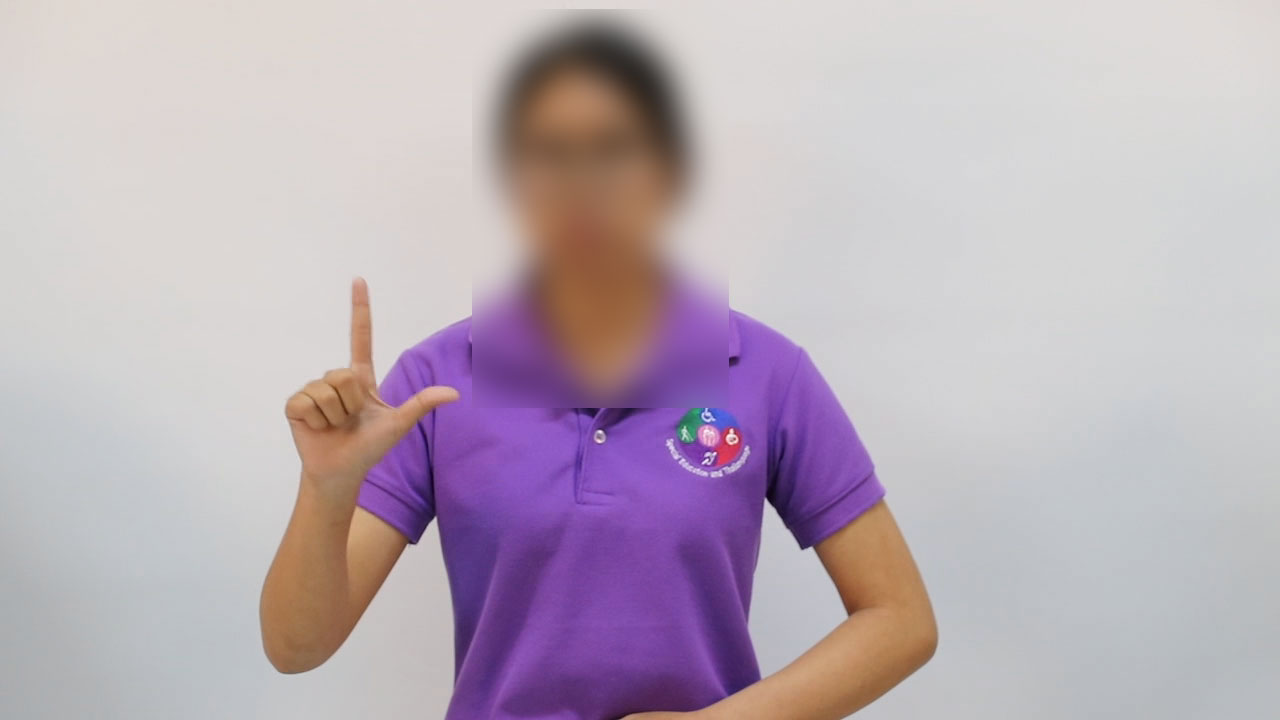lor: (268, 272, 469, 505)
